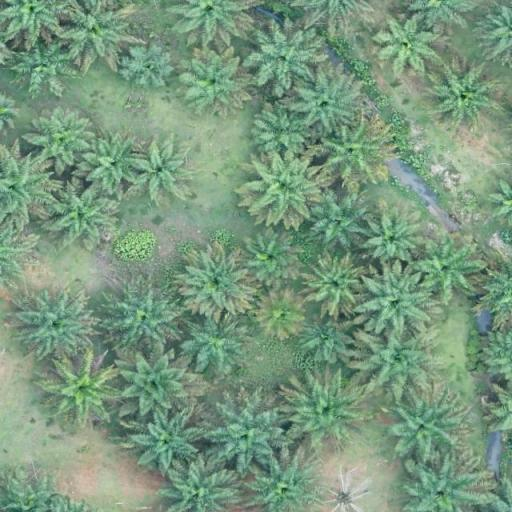Ganoderma: (330, 482, 360, 510)
